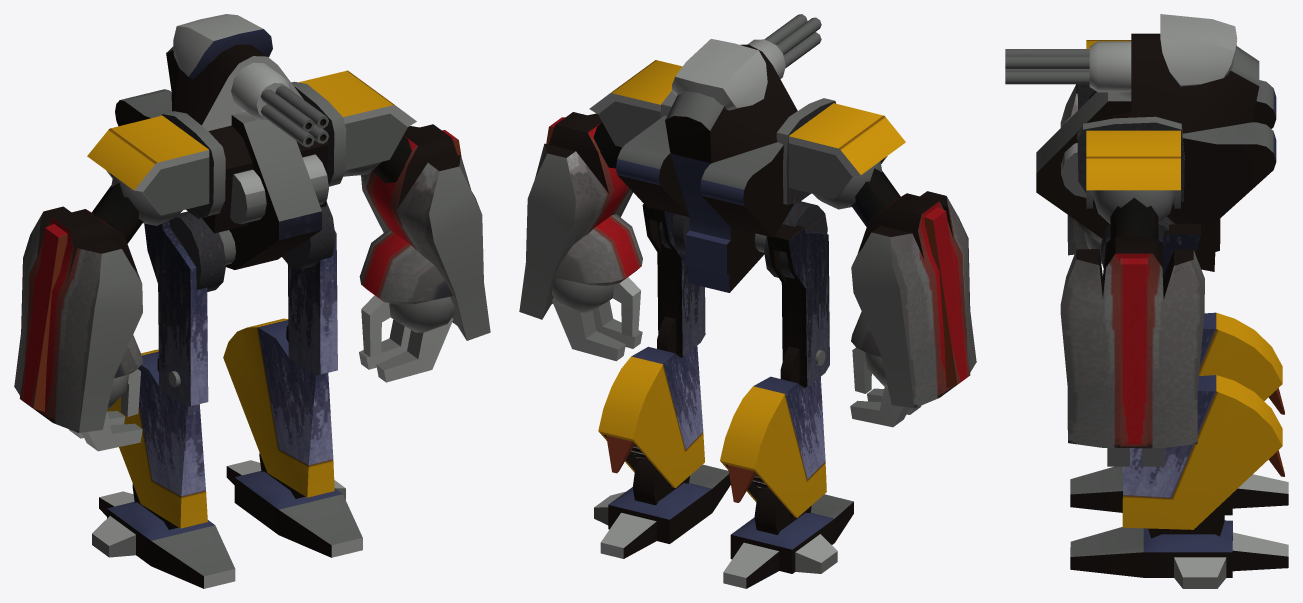
The model's file is npc_sec2bot_000058.obj.
3 views of the same model, side by side, from view 1: azimuth 30°, elevation 25°; view 2: azimuth 150°, elevation 25°; view 3: azimuth 270°, elevation 25° (orthographic). The views are drawn at different scales.
Visible parts, largest first — view 1: npc_sec2bot_npc_sec2bot_meshdata; view 2: npc_sec2bot_npc_sec2bot_meshdata; view 3: npc_sec2bot_npc_sec2bot_meshdata.
Boxes of the visible parts, x1,y1,x2,y2 form: npc_sec2bot_npc_sec2bot_meshdata: (14,14,490,588); npc_sec2bot_npc_sec2bot_meshdata: (519,14,976,588); npc_sec2bot_npc_sec2bot_meshdata: (1005,14,1288,588).
Bounding box in the file's own units: 2.3 × 2.45 × 1.25.
